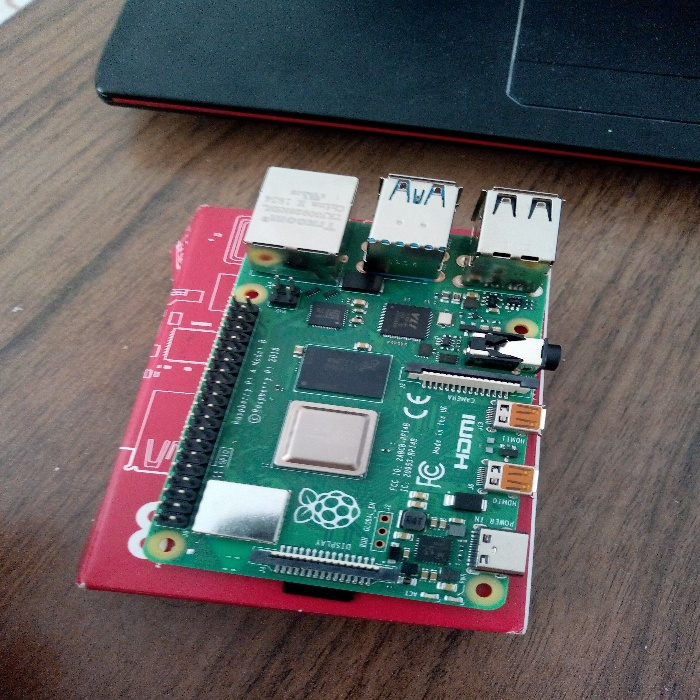raspberry: (119, 157, 599, 596)
